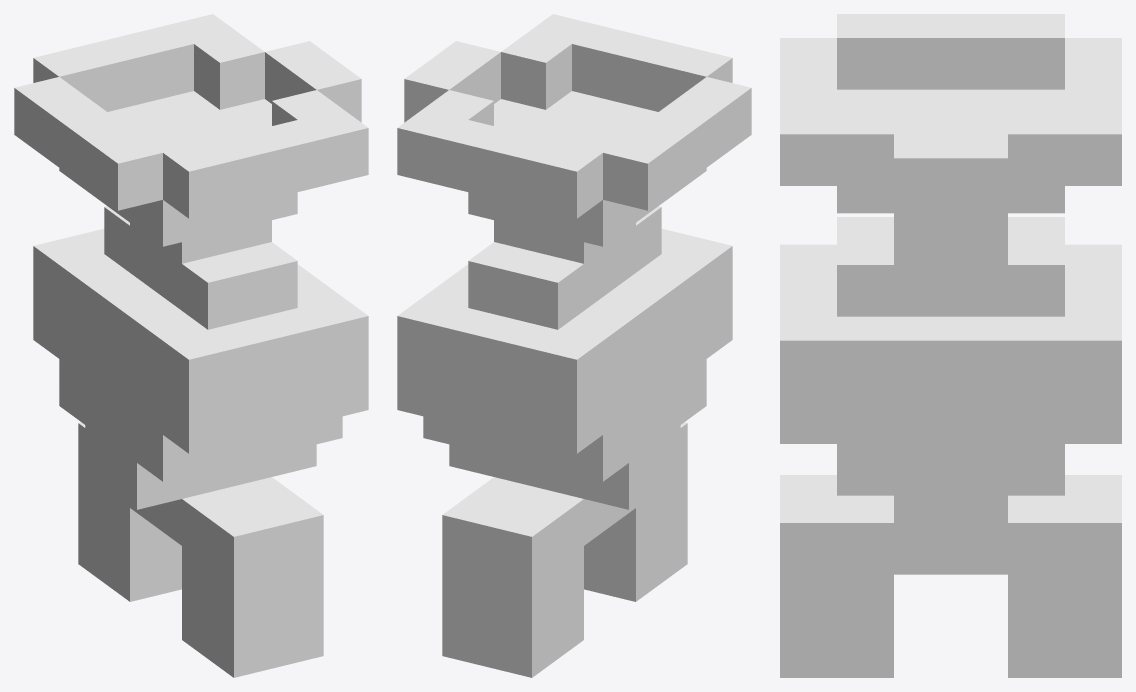
The picture shows the model from 3 angles, left to right: view 1: azimuth 30°, elevation 25°; view 2: azimuth 150°, elevation 25°; view 3: azimuth 270°, elevation 25°; orthographic projection. The views are drawn at different scales.
Size of the model in its own units: 6 by 11 by 6.
Materials: 1 (1 with a texture image).
